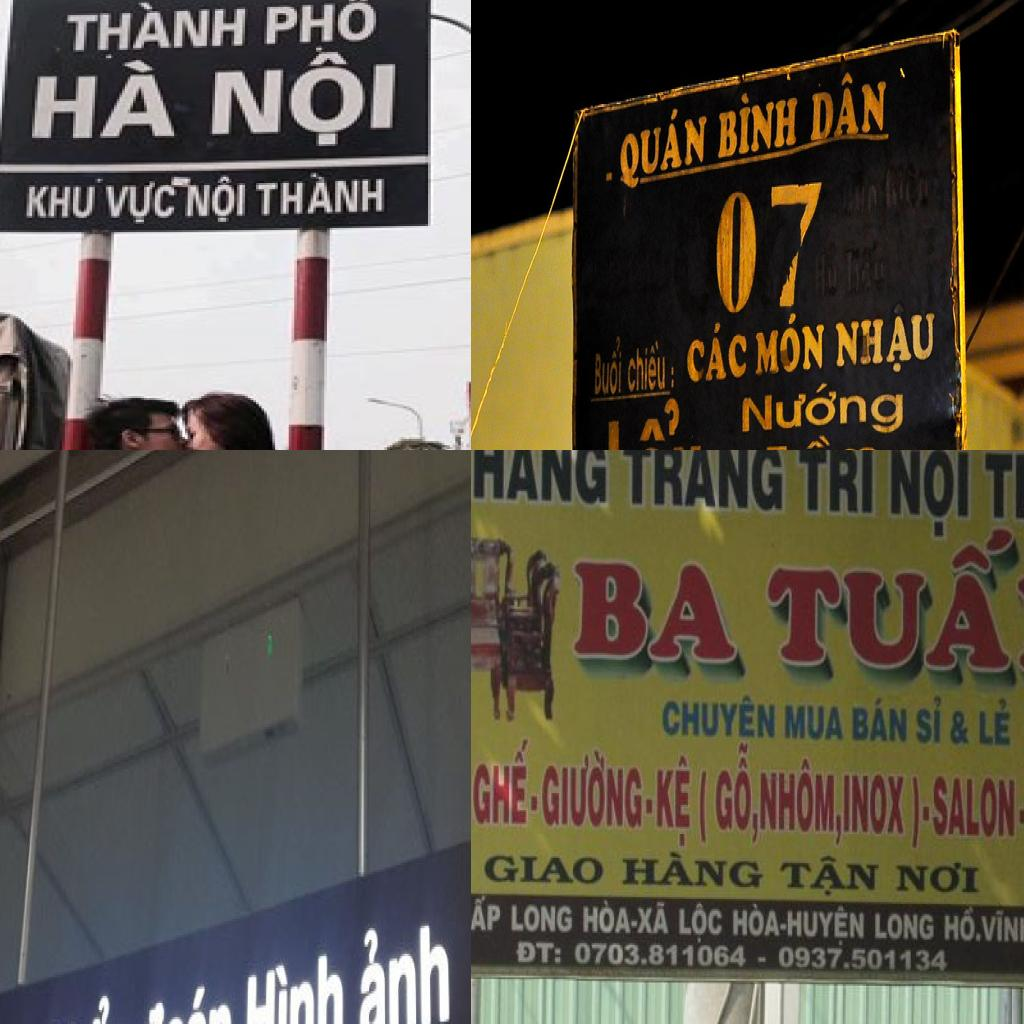text: (759, 530, 1024, 690), (196, 46, 409, 150), (562, 551, 744, 672), (714, 173, 828, 318), (29, 58, 177, 144), (615, 450, 789, 518), (739, 377, 908, 443), (359, 909, 452, 1024), (64, 0, 250, 54), (542, 745, 645, 834), (471, 450, 610, 511), (617, 101, 710, 192), (832, 301, 937, 380), (885, 450, 974, 543), (244, 947, 344, 1024), (623, 846, 766, 897), (253, 169, 390, 220), (657, 689, 779, 745), (715, 83, 801, 161), (793, 450, 882, 525), (809, 65, 890, 145), (573, 936, 748, 972), (261, 0, 389, 49), (471, 730, 533, 829), (760, 756, 836, 836), (932, 771, 1018, 841), (477, 844, 606, 890), (604, 394, 706, 450), (751, 309, 828, 381), (778, 945, 952, 976), (778, 851, 881, 901), (136, 975, 233, 1024), (714, 740, 760, 838), (683, 318, 748, 387), (842, 771, 906, 839), (654, 752, 696, 851), (784, 899, 868, 948), (103, 179, 185, 226), (182, 173, 253, 226), (892, 859, 984, 899), (37, 986, 132, 1024), (851, 689, 912, 747), (21, 181, 103, 224), (981, 450, 1024, 525), (782, 699, 848, 742), (627, 338, 677, 394), (506, 899, 574, 938), (871, 906, 937, 946), (677, 899, 725, 947), (729, 899, 783, 941), (592, 336, 627, 398), (580, 897, 632, 938), (764, 434, 886, 450), (976, 700, 1015, 750), (981, 905, 1024, 948), (515, 936, 564, 970), (636, 896, 672, 942), (915, 689, 944, 745), (696, 766, 714, 848), (942, 906, 978, 946), (471, 893, 503, 936), (907, 771, 922, 851), (950, 708, 974, 747), (834, 814, 843, 850), (752, 812, 760, 844)
